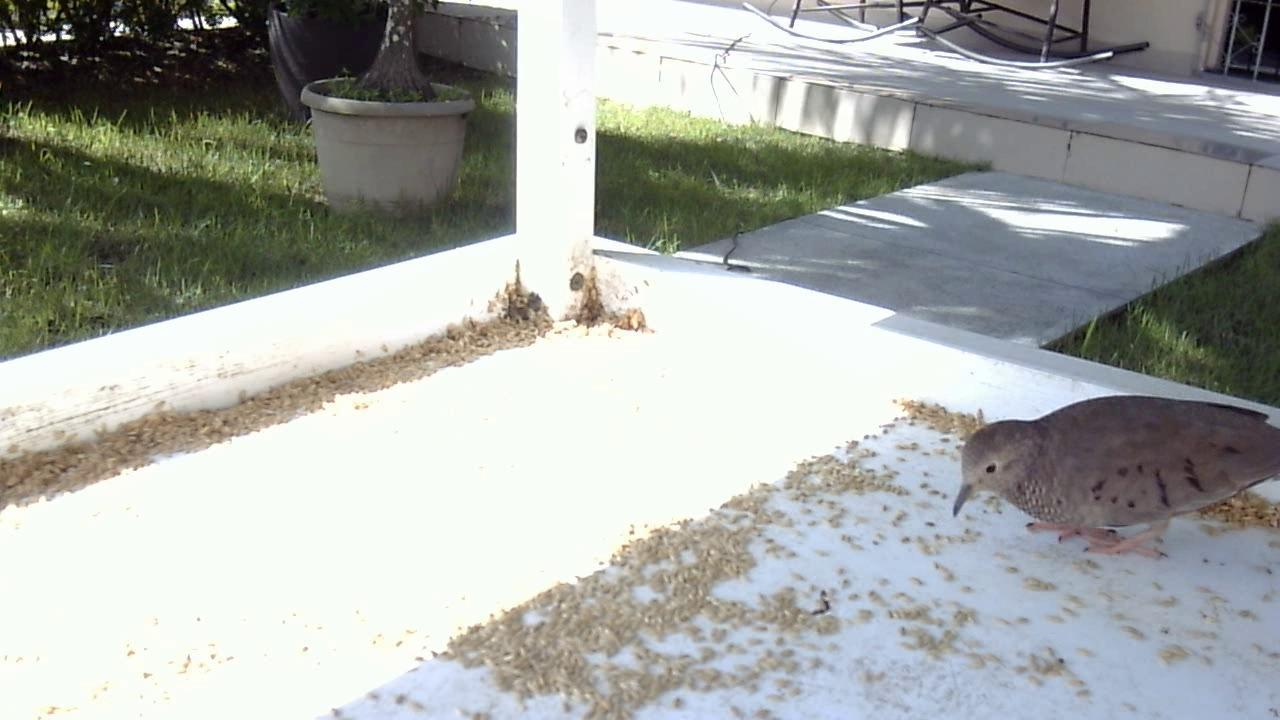rolinha: (945, 389, 1273, 562)
